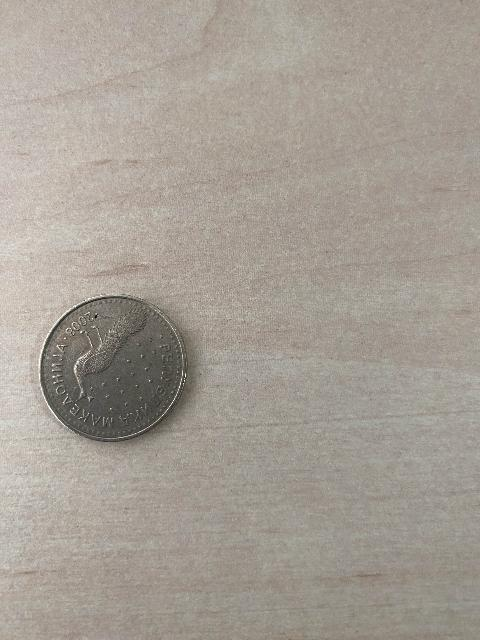10_coin: (40, 295, 186, 441)
